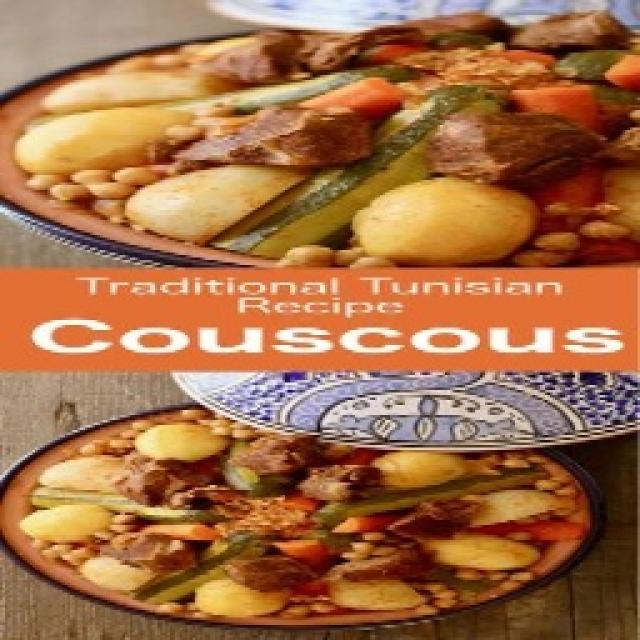Couscous: (0, 0, 640, 270), (0, 402, 608, 632)
